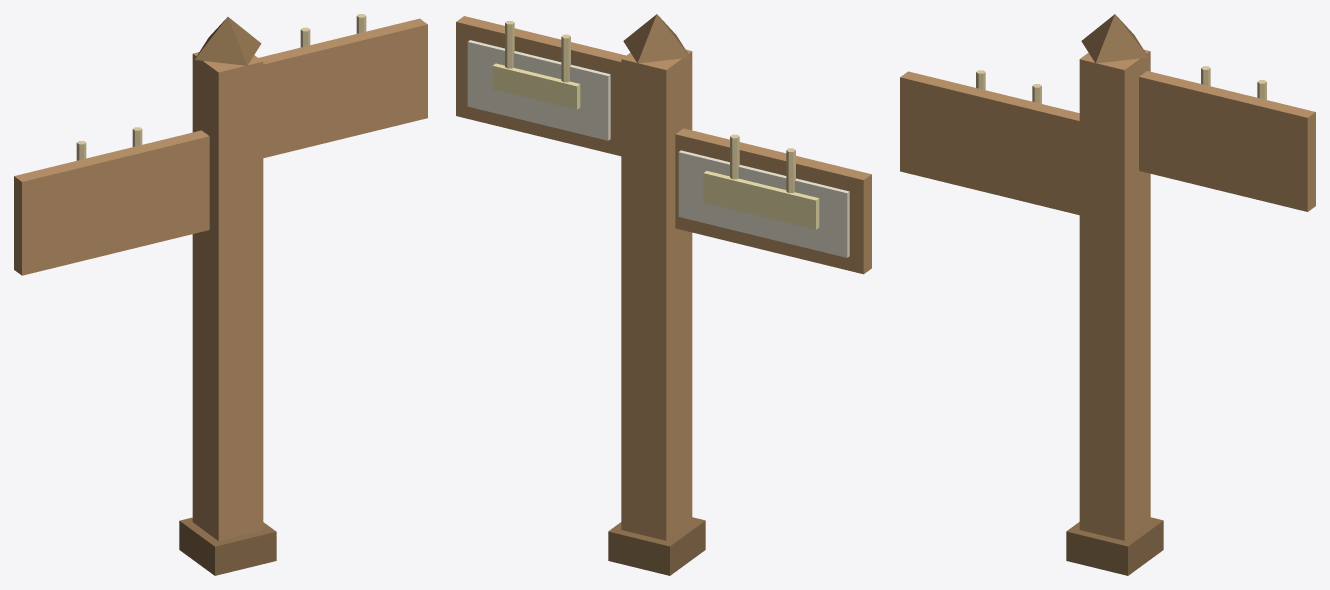
The model's file is signpost.glb.
The picture shows the model from 3 angles, left to right: view 1: azimuth 30°, elevation 25°; view 2: azimuth 150°, elevation 25°; view 3: azimuth 330°, elevation 25°; orthographic projection.
Parts seen in each view (by area): view 1: post, sign_l, sign_r, post_dark, post_cap; view 2: post, sign_l, sign_l_face, sign_r_face, sign_r, sign_text_l, post_dark, sign_text_r, post_cap; view 3: post, sign_l, sign_r, post_dark, post_cap.
Part boxes in pixels (<box>): post: <box>192,52,263,540</box>; sign_l: <box>14,130,209,275</box>; sign_r: <box>259,18,427,158</box>; post_dark: <box>179,517,276,575</box>; post_cap: <box>194,17,261,65</box>; post: <box>621,49,692,540</box>; sign_l: <box>675,128,871,274</box>; sign_l_face: <box>678,150,849,257</box>; sign_r_face: <box>467,40,610,140</box>; sign_r: <box>456,16,625,156</box>; sign_text_l: <box>703,171,819,229</box>; post_dark: <box>608,517,705,575</box>; sign_text_r: <box>492,63,580,109</box>; post_cap: <box>623,14,690,63</box>; post: <box>1079,49,1150,540</box>; sign_l: <box>900,71,1079,215</box>; sign_r: <box>1139,71,1315,211</box>; post_dark: <box>1066,517,1163,575</box>; post_cap: <box>1081,14,1148,63</box>.
Bounding box in the file's own units: 1.45 × 1.84 × 0.24.
